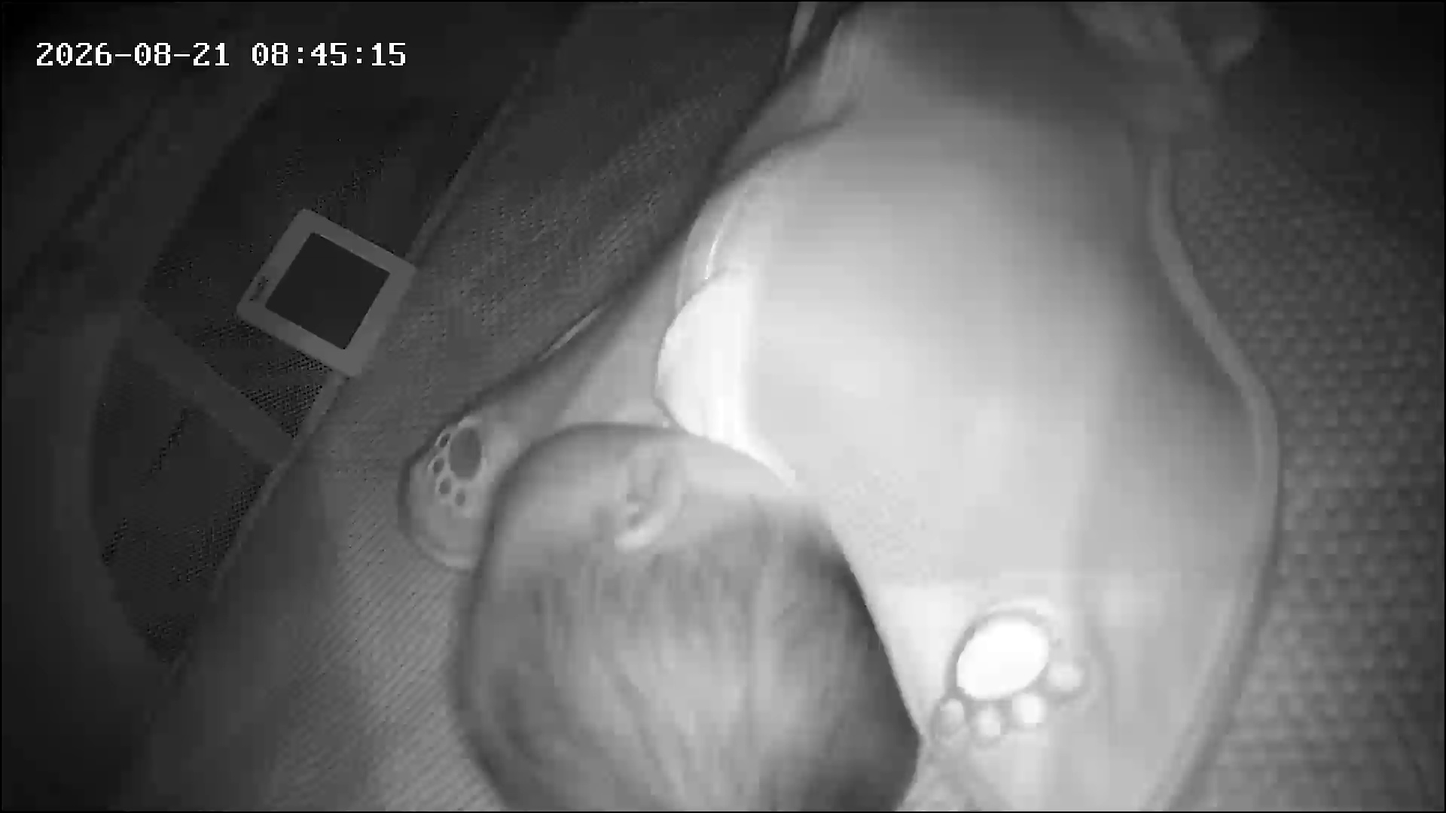baby: (473, 1, 1327, 811)
baby_face: (444, 396, 932, 812)
